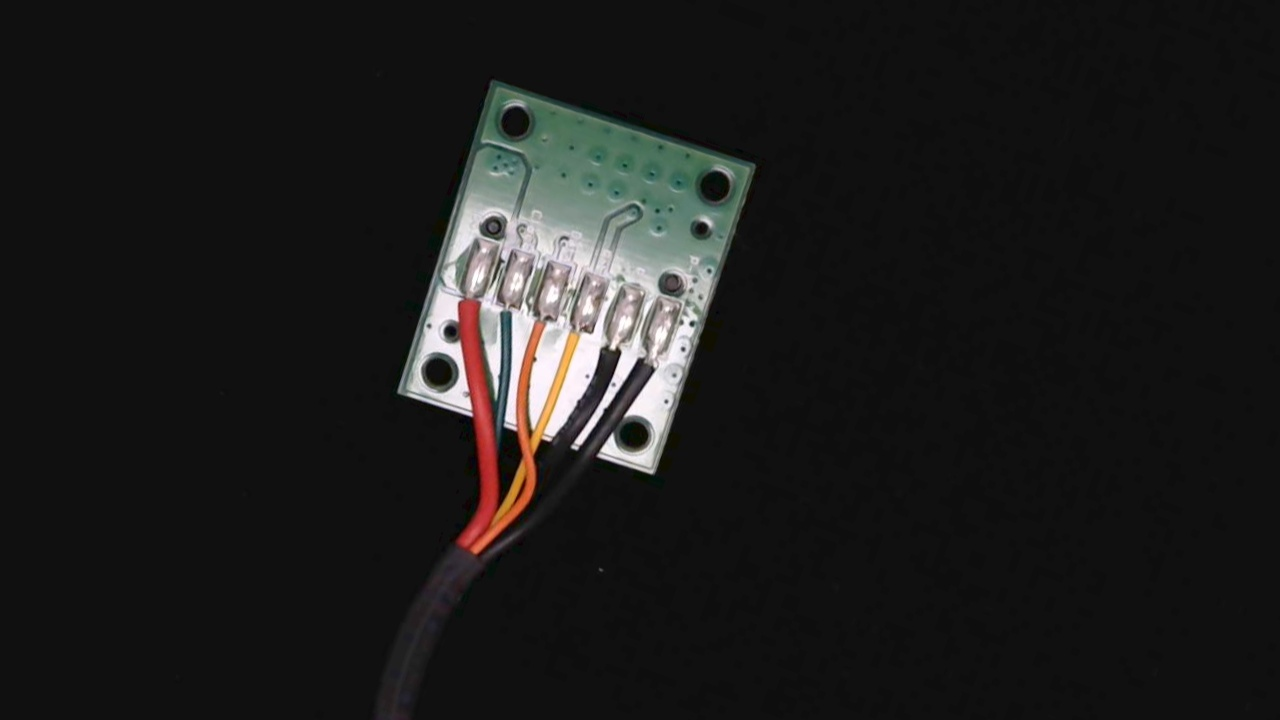Black: (579, 317, 636, 397)
Black1: (622, 328, 676, 402)
Green: (478, 281, 527, 346)
Orange: (511, 297, 562, 372)
Red: (437, 271, 493, 348)
Yellow: (545, 307, 602, 388)
